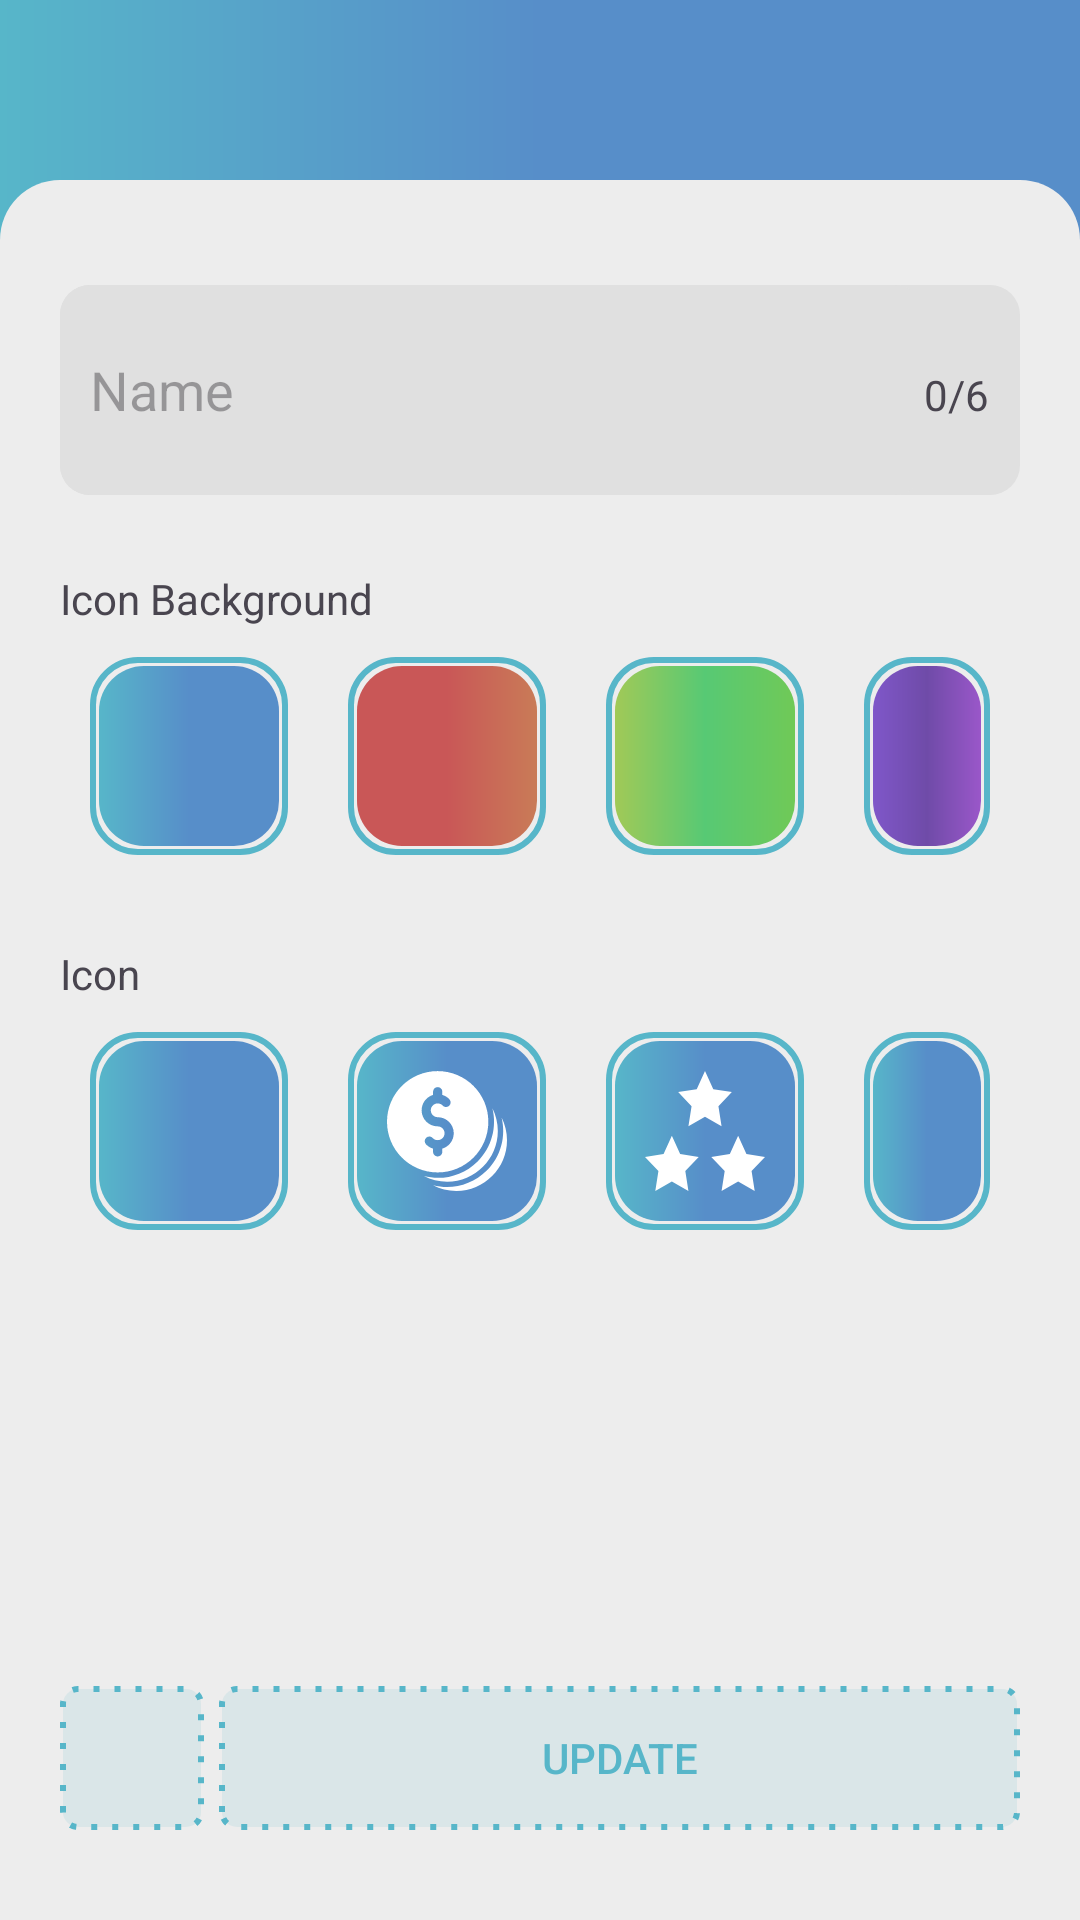

Icons on this 1080x1920 Android screen, each with the point to tap as (x,y):
coin: (447,1131)
stars: (705,1131)
